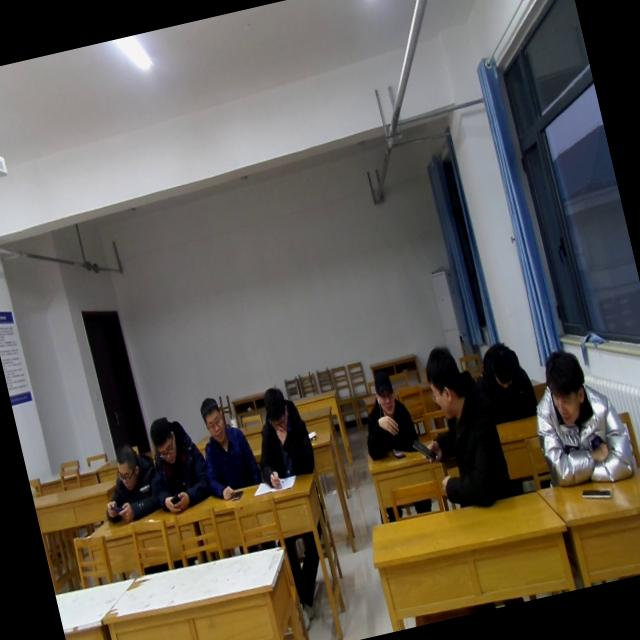bow: (518, 337, 640, 498), (92, 440, 165, 528)
down: (255, 378, 296, 440), (482, 336, 522, 396), (143, 410, 183, 468), (108, 439, 144, 494)
lookup: (193, 392, 228, 448), (368, 366, 398, 416)
sit: (409, 337, 517, 520), (350, 364, 436, 516), (240, 379, 320, 492), (134, 410, 216, 516), (191, 390, 263, 498), (470, 336, 544, 426)
